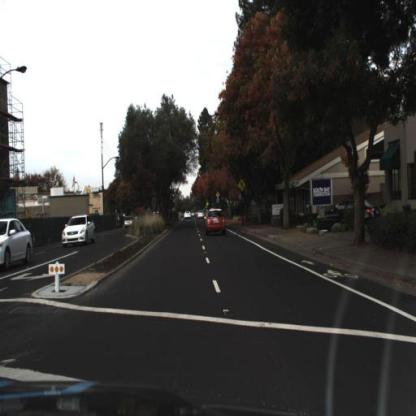car: (1, 217, 35, 276), (328, 197, 380, 228), (61, 211, 97, 252), (204, 207, 229, 239), (122, 214, 137, 230)
